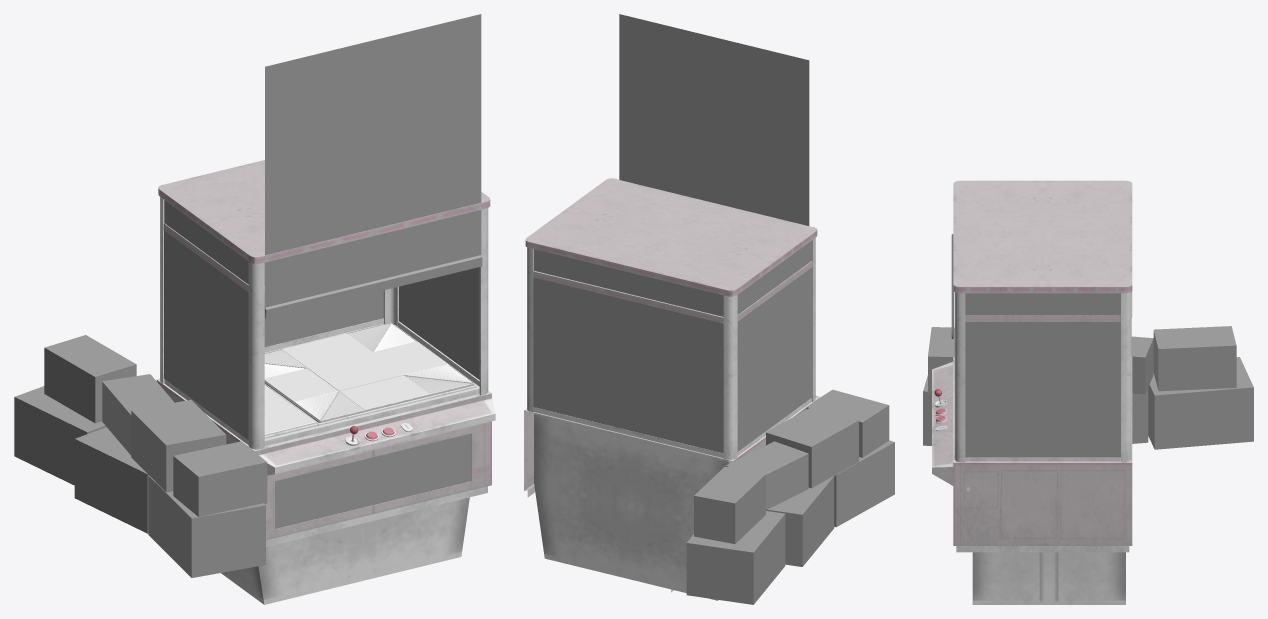
File: creangame_03.fbx
3 renders of one model, left to right at view 1: azimuth 30°, elevation 25°; view 2: azimuth 150°, elevation 25°; view 3: azimuth 270°, elevation 25°, orthographic. The views are drawn at different scales.
Parts seen in each view (by area): view 1: Game_shutter01, Game_base01, cardbord_01, Game_glass01, Game_convayor_01, Game_roller_01, Game_rotate_01, Game_output01, Game_mataina_01; view 2: Game_base01, Game_glass01, Game_shutter01, cardbord_01; view 3: Game_base01, Game_glass01, cardbord_01.
Boxes of the visible parts, left/top/right/bottom form: Game_shutter01: left=265, top=14, right=482, bottom=318; Game_base01: left=156, top=160, right=495, bottom=604; cardbord_01: left=14, top=335, right=267, bottom=577; Game_glass01: left=164, top=200, right=479, bottom=528; Game_convayor_01: left=264, top=333, right=448, bottom=409; Game_roller_01: left=264, top=323, right=471, bottom=420; Game_rotate_01: left=264, top=322, right=474, bottom=422; Game_output01: left=264, top=385, right=317, bottom=438; Game_mataina_01: left=264, top=381, right=476, bottom=425; Game_base01: left=524, top=178, right=820, bottom=600; Game_glass01: left=533, top=240, right=811, bottom=453; Game_shutter01: left=619, top=14, right=809, bottom=225; cardbord_01: left=686, top=389, right=894, bottom=604; Game_base01: left=932, top=180, right=1132, bottom=604; Game_glass01: left=965, top=293, right=1120, bottom=457; cardbord_01: left=923, top=326, right=1253, bottom=449.
Bounding box in the file's own units: 206 × 338 × 202.
5 materials, 2 textured.
